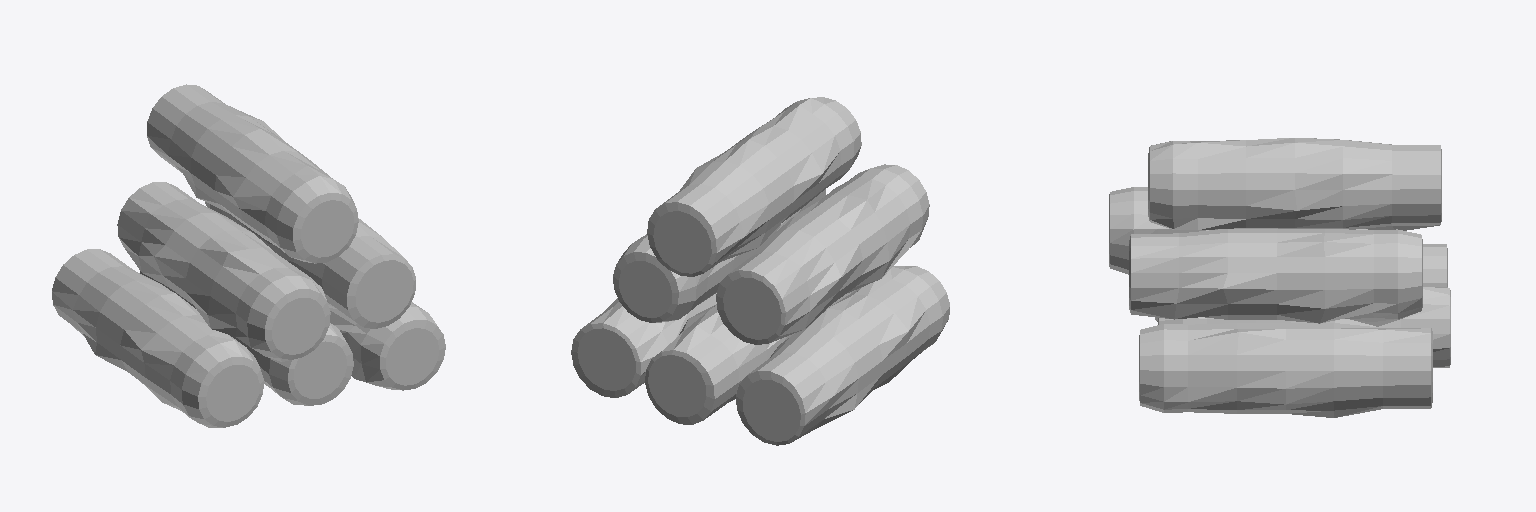
Rendered from wood.obj.
3 renders of one model, left to right at view 1: azimuth 30°, elevation 25°; view 2: azimuth 150°, elevation 25°; view 3: azimuth 270°, elevation 25°, orthographic.
Parts seen in each view (by area): view 1: Wood.004_Cylinder.009, Wood.005_Cylinder.010, Wood_Cylinder, Wood.003_Cylinder.008, Wood.002_Cylinder.007, Wood.001_Cylinder.006; view 2: Wood.004_Cylinder.009, Wood.005_Cylinder.010, Wood_Cylinder, Wood.001_Cylinder.006, Wood.002_Cylinder.007, Wood.003_Cylinder.008; view 3: Wood.003_Cylinder.008, Wood.002_Cylinder.007, Wood.005_Cylinder.010, Wood.001_Cylinder.006, Wood.004_Cylinder.009, Wood_Cylinder.
Boxes of the visible parts, x1,y1,x2,y2 form: Wood.004_Cylinder.009: [117, 182, 330, 361]; Wood.005_Cylinder.010: [147, 84, 358, 263]; Wood_Cylinder: [52, 249, 263, 427]; Wood.003_Cylinder.008: [205, 202, 415, 328]; Wood.002_Cylinder.007: [328, 302, 445, 390]; Wood.001_Cylinder.006: [140, 271, 353, 405]; Wood.004_Cylinder.009: [716, 164, 929, 344]; Wood.005_Cylinder.010: [647, 97, 861, 276]; Wood_Cylinder: [736, 266, 949, 445]; Wood.001_Cylinder.006: [645, 290, 855, 424]; Wood.002_Cylinder.007: [571, 293, 716, 397]; Wood.003_Cylinder.008: [613, 189, 825, 322]; Wood.003_Cylinder.008: [1129, 228, 1422, 323]; Wood.002_Cylinder.007: [1139, 319, 1432, 417]; Wood.005_Cylinder.010: [1148, 138, 1441, 230]; Wood.001_Cylinder.006: [1158, 287, 1450, 367]; Wood.004_Cylinder.009: [1109, 187, 1367, 274]; Wood_Cylinder: [1155, 244, 1447, 321].
Bounding box in the file's own units: 6.44 × 5.73 × 7.47.